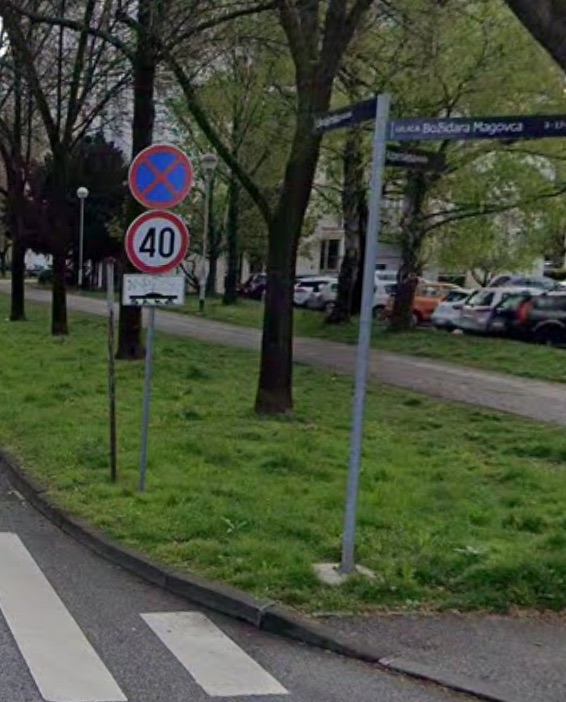Ograničenje brzine 40: (125, 210, 189, 274)
